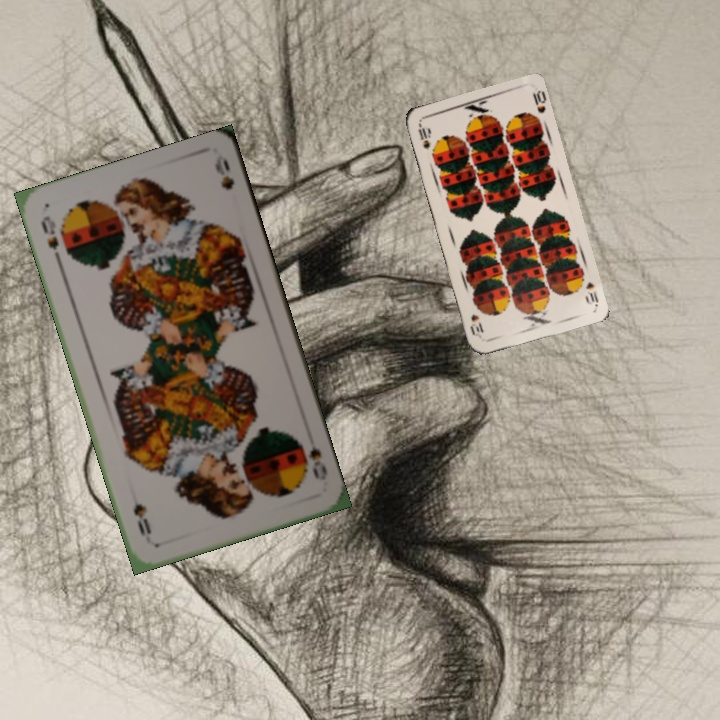S10: (414, 119, 433, 152), (582, 278, 601, 308)
SO: (293, 430, 330, 483), (37, 211, 65, 267)
